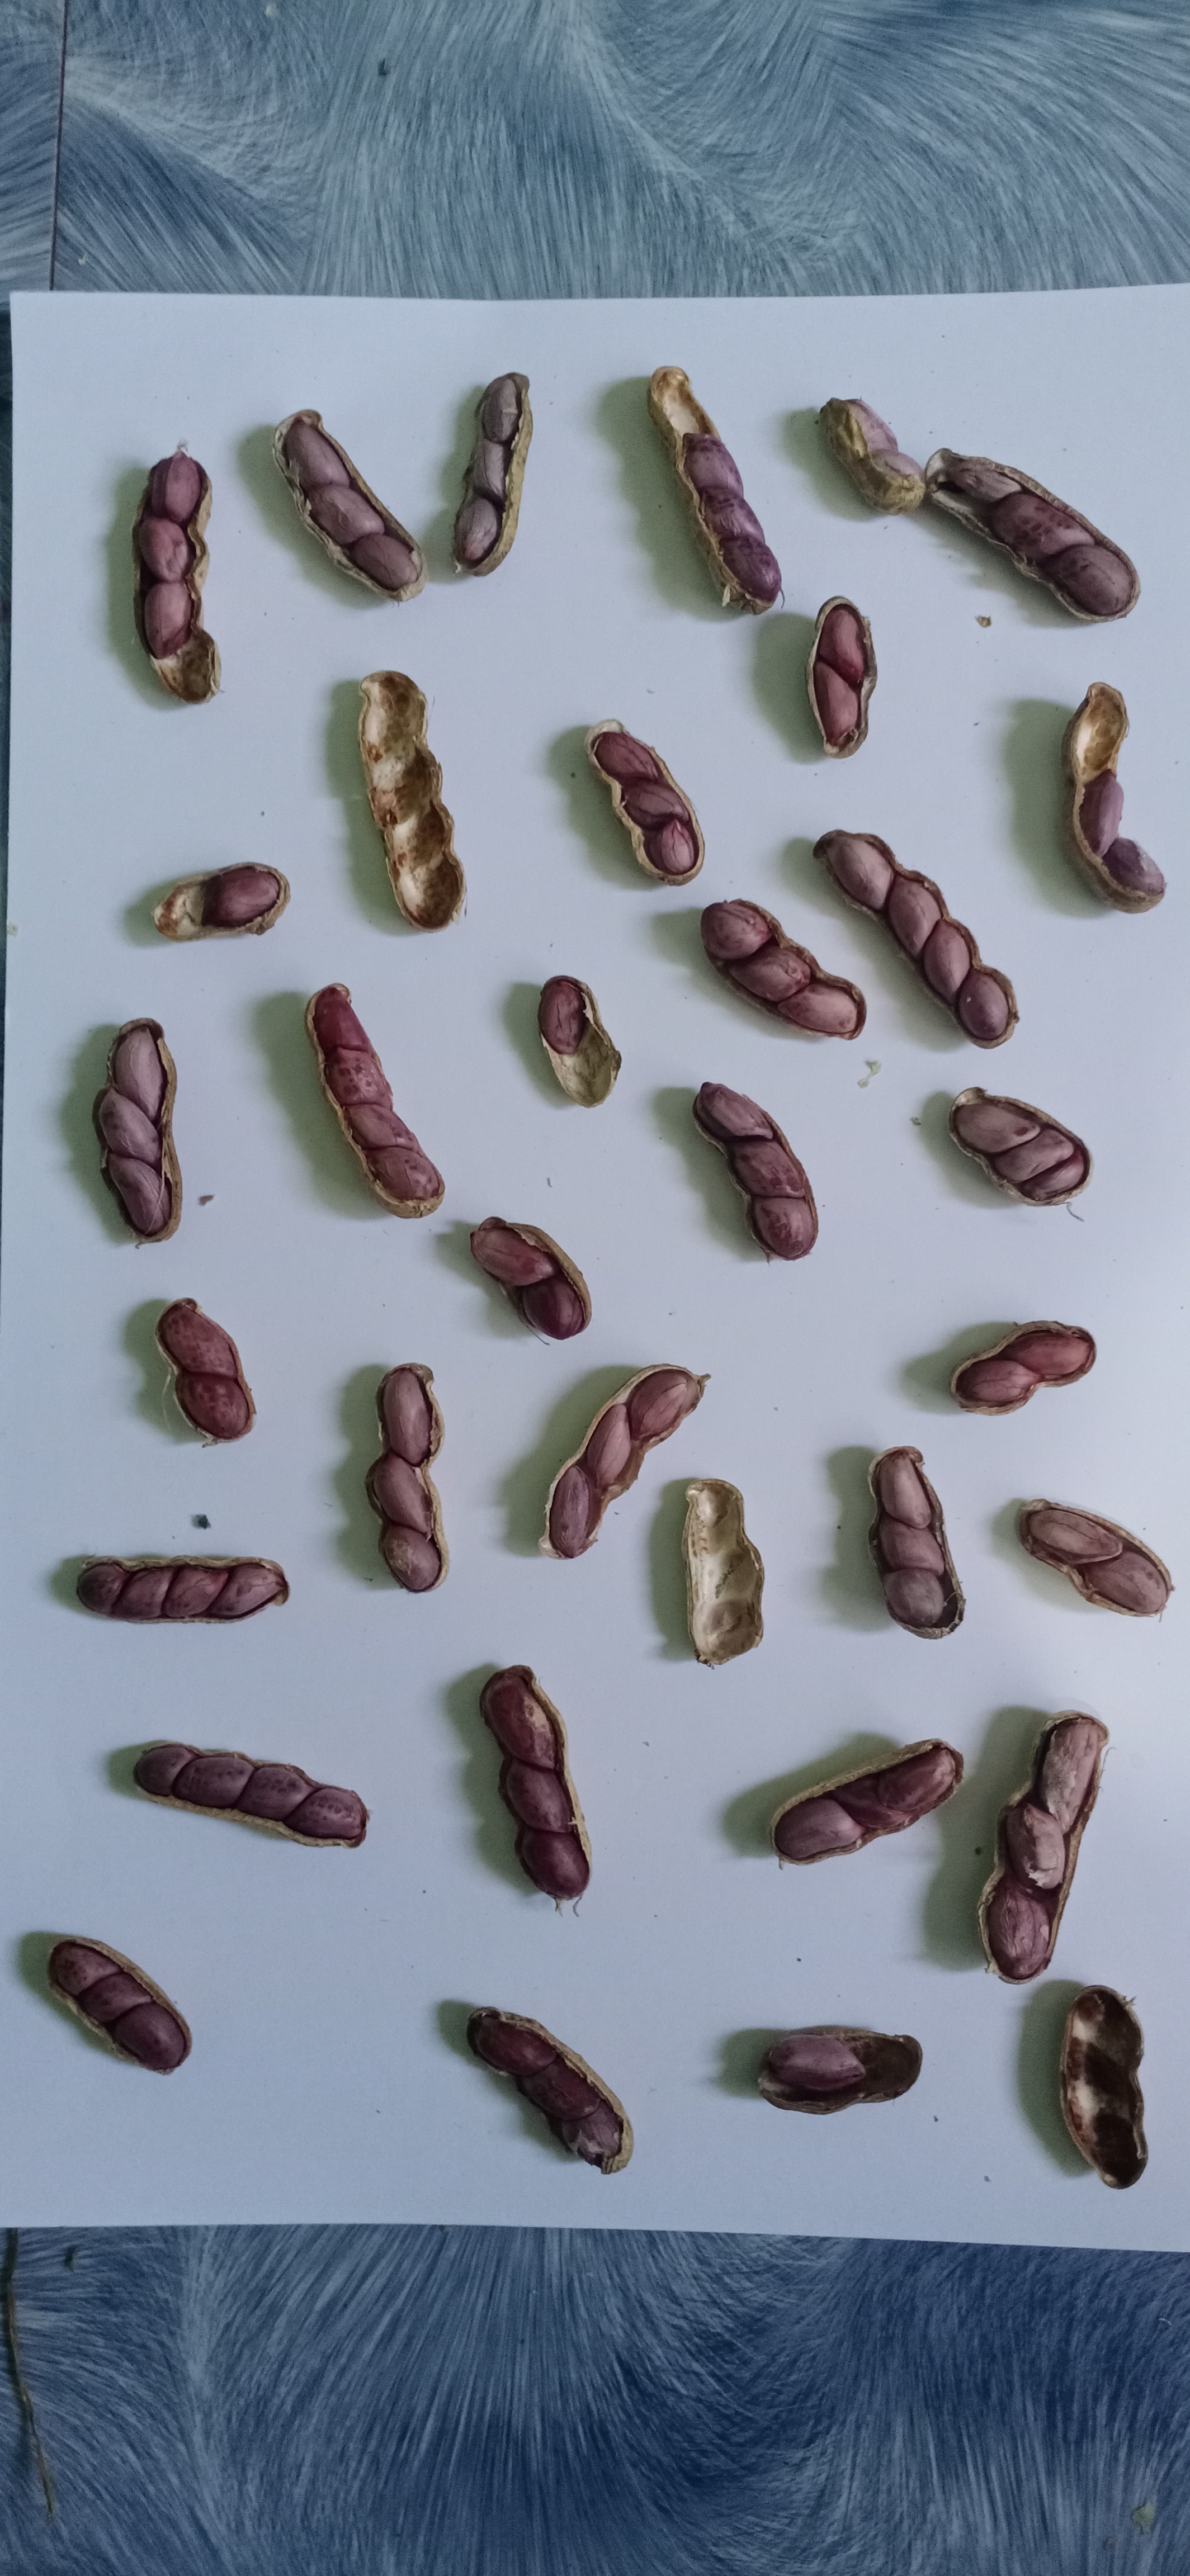Empty: (342, 667, 467, 941), (1052, 1978, 1167, 2198), (679, 1461, 773, 1672)
Four: (807, 817, 1035, 1048), (302, 968, 457, 1227), (113, 1733, 385, 1858), (62, 1546, 306, 1631)
One: (723, 2009, 929, 2119), (513, 968, 628, 1107), (146, 841, 286, 955)
Three: (914, 427, 1142, 619), (962, 1690, 1108, 1981), (529, 1350, 710, 1577), (445, 1988, 651, 2187), (638, 357, 787, 616), (266, 398, 432, 610), (480, 1659, 603, 1912), (79, 1005, 207, 1244), (672, 1073, 827, 1268), (692, 884, 869, 1048), (768, 1738, 962, 1881), (127, 455, 235, 710), (353, 1357, 459, 1612), (575, 713, 720, 890), (41, 1929, 210, 2080), (856, 1442, 975, 1653), (445, 360, 537, 578), (950, 1079, 1098, 1211)
Two: (1054, 664, 1178, 923), (449, 1196, 603, 1354), (1019, 1488, 1190, 1626), (940, 1296, 1100, 1416), (153, 1293, 256, 1446), (805, 379, 924, 509), (805, 591, 878, 761)
